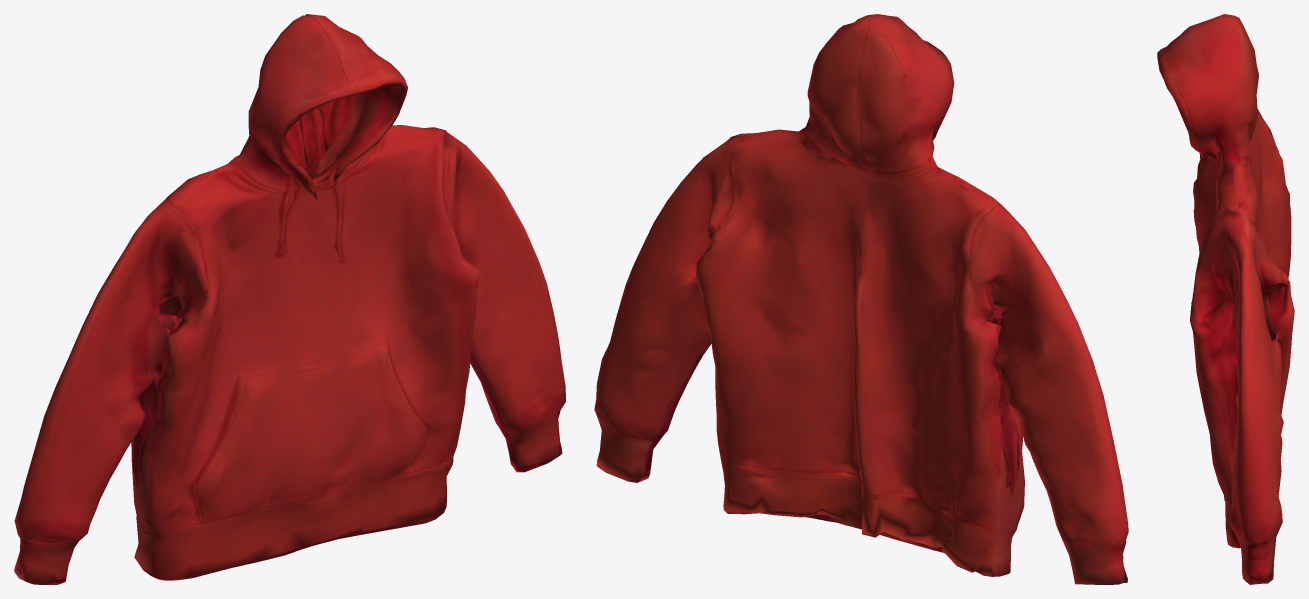
File: RedHoodieFlat.fbx
3 renders of one model, left to right at view 1: azimuth 30°, elevation 25°; view 2: azimuth 150°, elevation 25°; view 3: azimuth 270°, elevation 25°, orthographic. The views are drawn at different scales.
Parts seen in each view (by area): view 1: temp.001; view 2: temp.001; view 3: temp.001.
Boxes of the visible parts, x1,y1,x2,y2 form: temp.001: (14,14,565,584); temp.001: (594,14,1128,584); temp.001: (1157,14,1294,584).
Size of the model in its own units: 303 by 284 by 74.51.
Materials: 1 (1 with a texture image).
